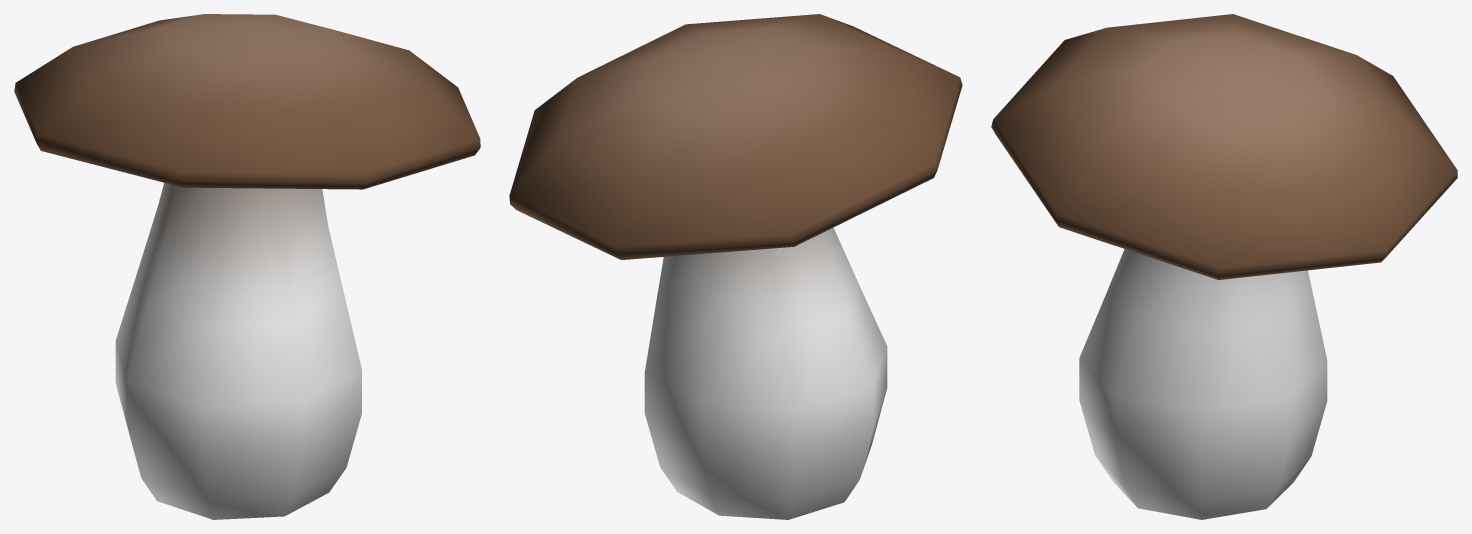
The model's file is ENV1810019.fbx.
The picture shows the model from 3 angles, left to right: view 1: azimuth 30°, elevation 25°; view 2: azimuth 150°, elevation 25°; view 3: azimuth 270°, elevation 25°; orthographic projection. The views are drawn at different scales.
Parts seen in each view (by area): view 1: smENV1810019; view 2: smENV1810019; view 3: smENV1810019.
Part boxes in pixels (x1,y1,x2,y2): smENV1810019: [14, 14, 480, 519]; smENV1810019: [509, 14, 962, 519]; smENV1810019: [991, 14, 1457, 519].
Size of the model in its own units: 7.02 by 7.08 by 7.02.
Materials: 1 (1 with a texture image).
